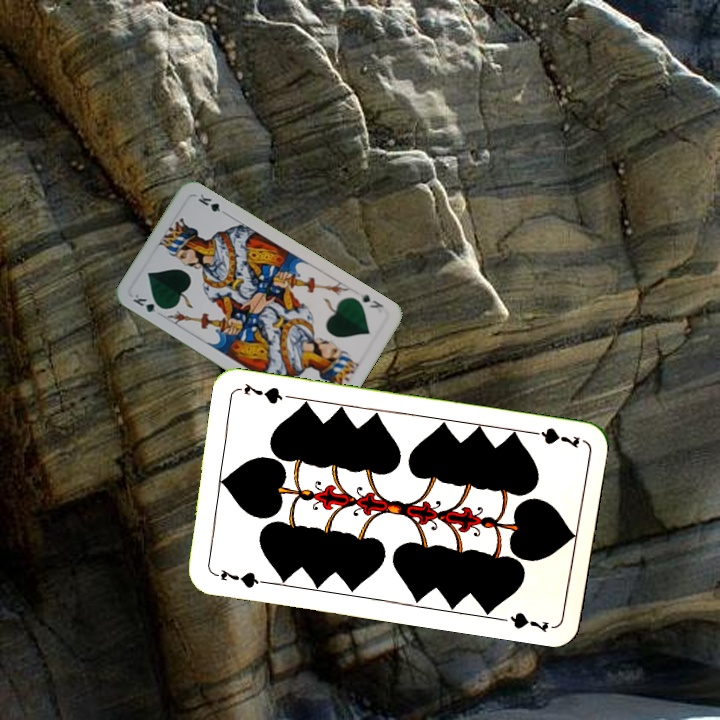G7: (524, 423, 582, 451), (209, 565, 268, 591)
GK: (129, 289, 167, 319), (354, 288, 386, 311)
